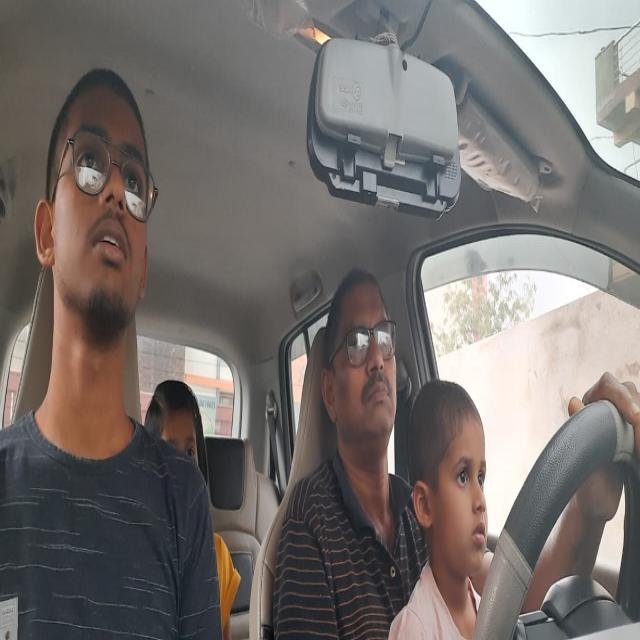child: (410, 366, 490, 576)
person: (35, 67, 161, 346), (319, 260, 399, 462), (146, 370, 210, 498)
